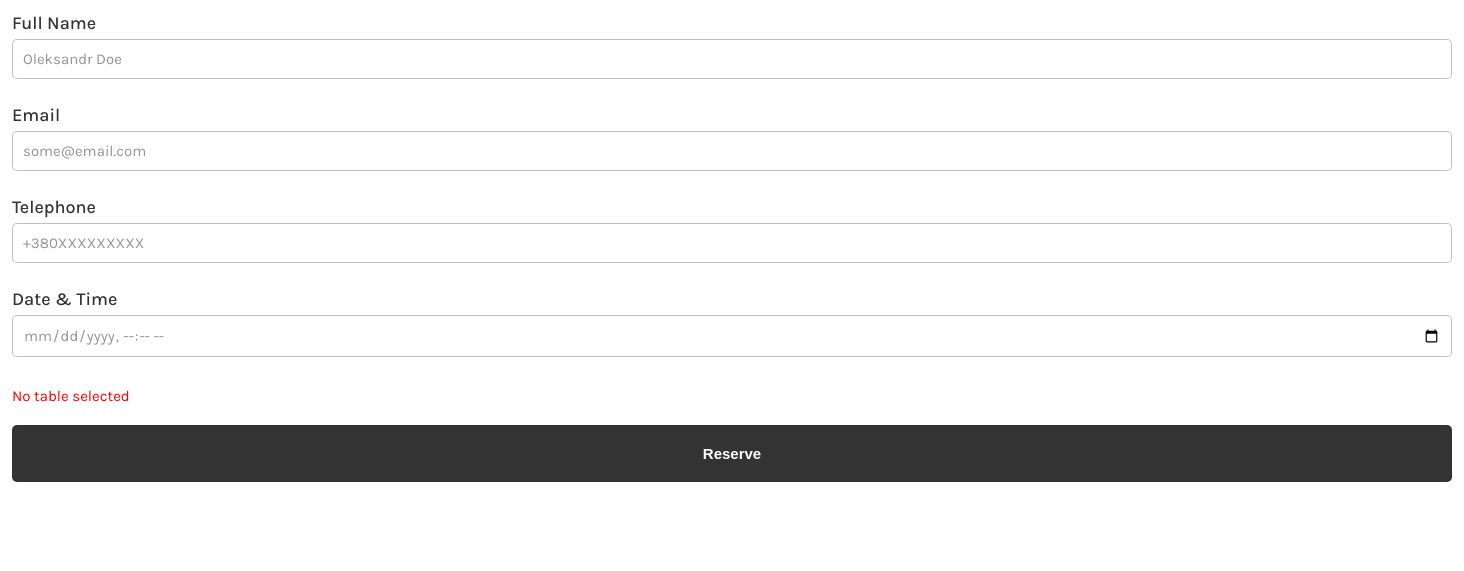
Test: ReservationForm › handles form validation
Type "invalid email" into the field with placeholder "some@email.com". click: x=732, y=151
box: x1=12 y1=131 x2=1452 y2=171
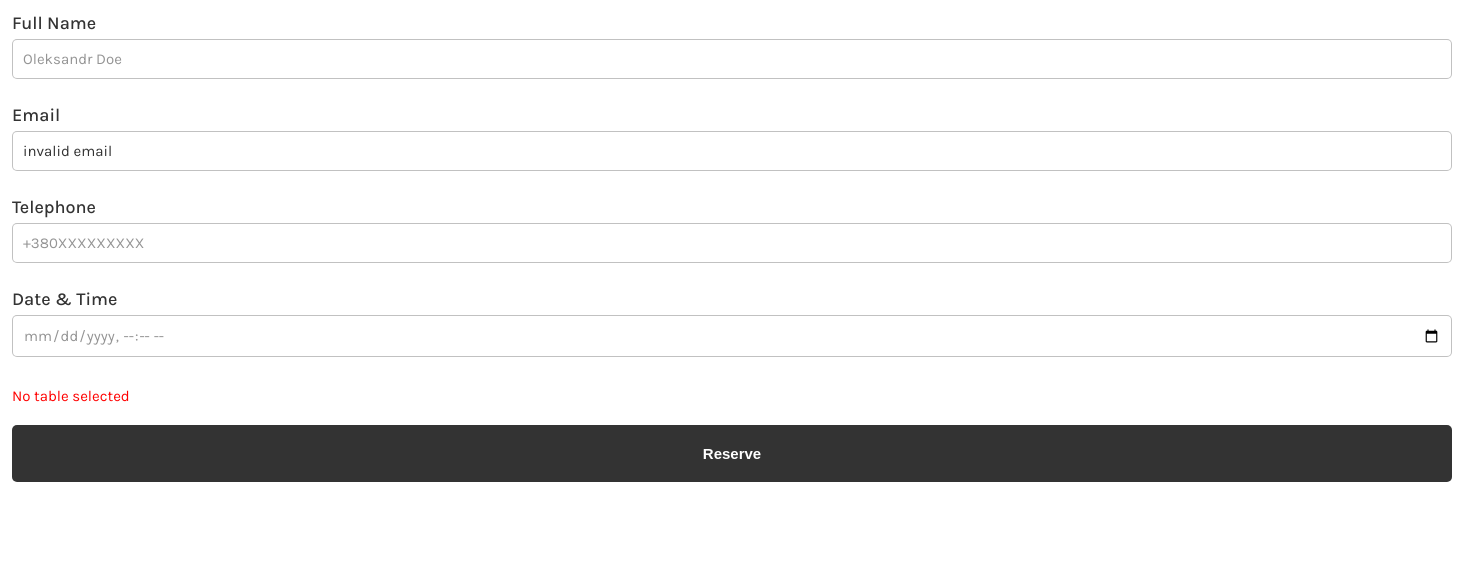
Type "invalid phone number" into the field with placeholder "+380XXXXXXXXX". click: x=732, y=243
box: x1=12 y1=223 x2=1452 y2=263
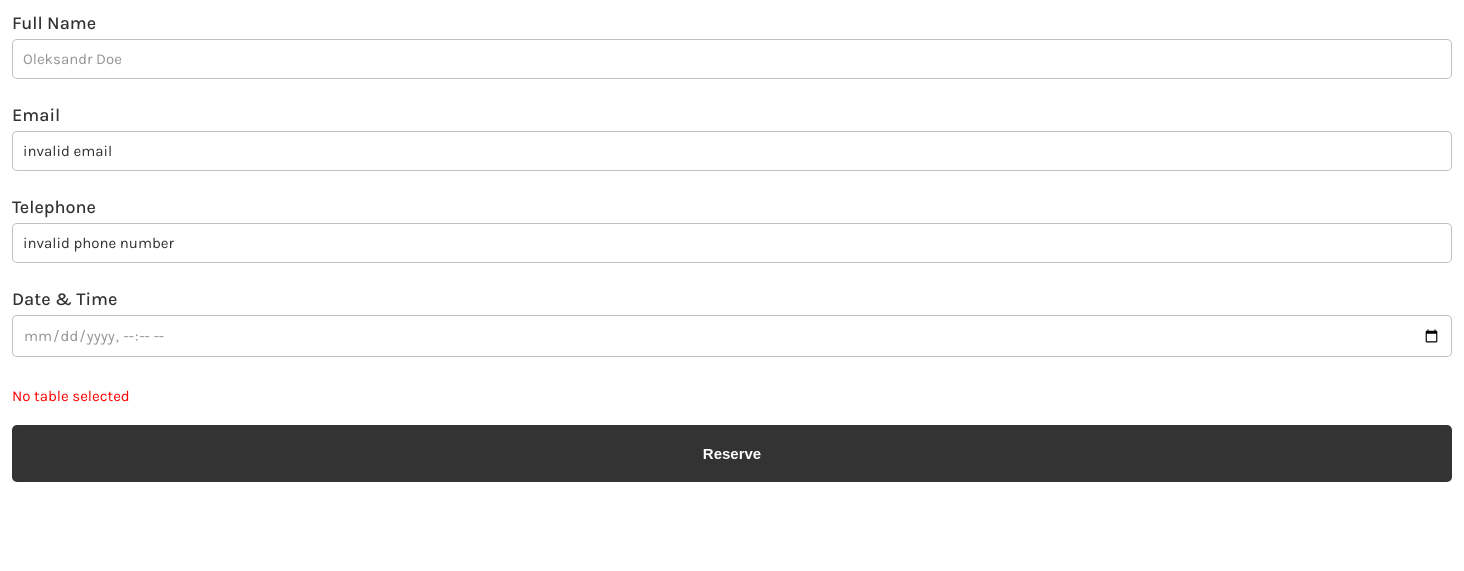
Click the button "Reserve". click: x=732, y=454
box: x1=12 y1=425 x2=1452 y2=482
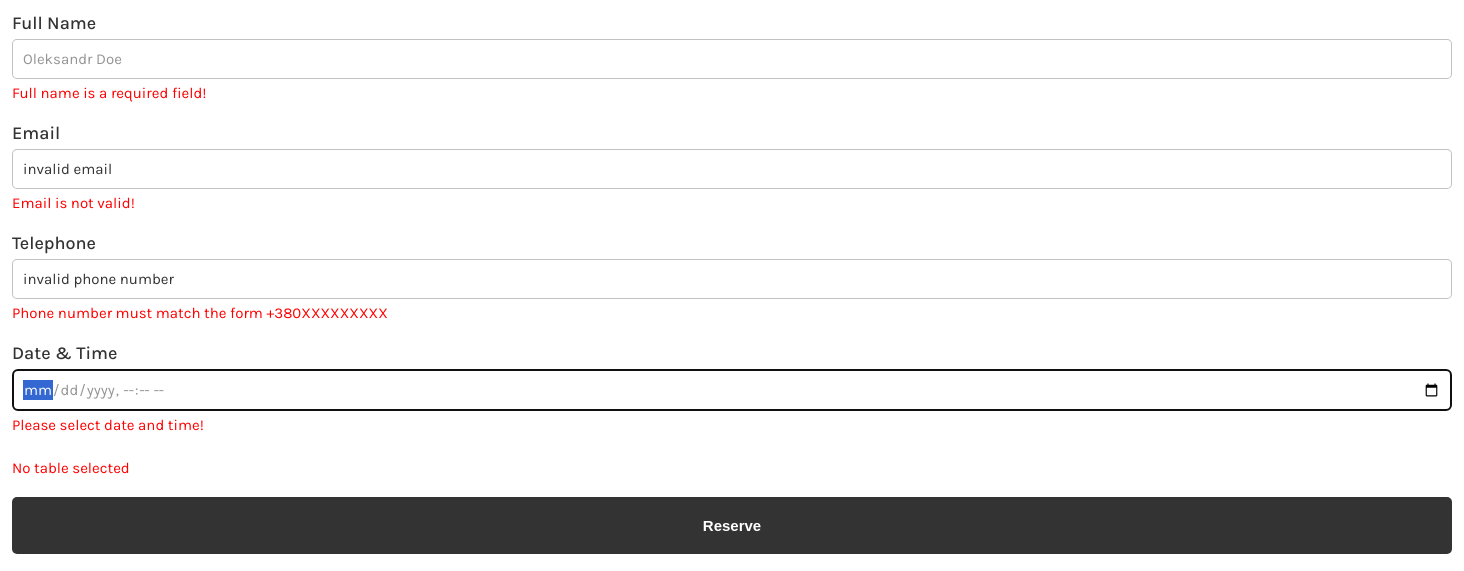
Expected: the text "Full name is a required field!" is shown, x1=12 y1=84 x2=206 y2=102
Expected: the text "Email is not valid!" is shown, x1=12 y1=194 x2=135 y2=212
Expected: the text "Phone number must match the form +380XXXXXXXXX" is shown, x1=12 y1=304 x2=388 y2=322
